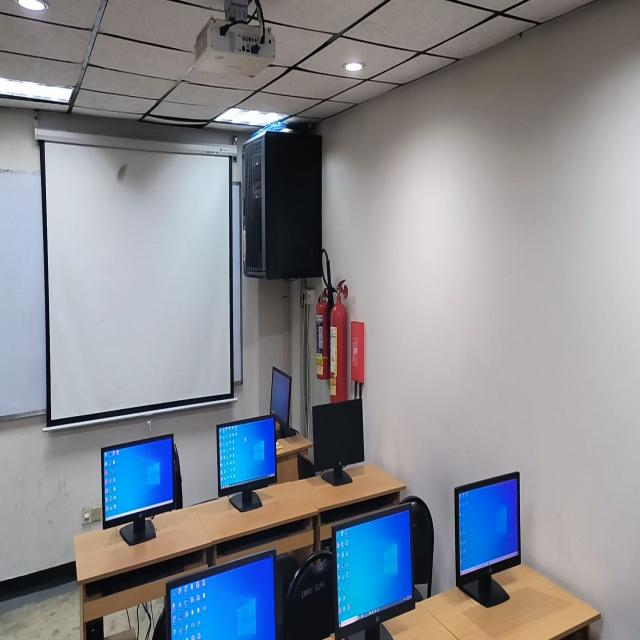Chair: (284, 549, 330, 640), (414, 496, 433, 599)
Fire Extinguisher: (316, 247, 333, 385), (331, 284, 348, 399)
Light: (0, 76, 80, 109), (212, 106, 293, 128), (342, 56, 365, 74), (16, 0, 50, 12)
Monitor: (336, 504, 411, 640), (169, 551, 279, 640), (455, 475, 523, 603), (103, 433, 175, 542), (217, 415, 276, 506), (314, 397, 365, 487)
Projector: (192, 11, 282, 85)
